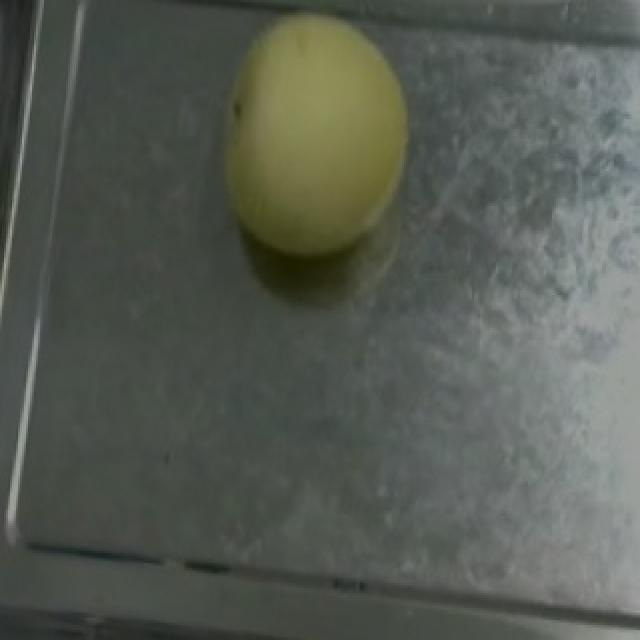Fruit: (196, 0, 426, 275)
